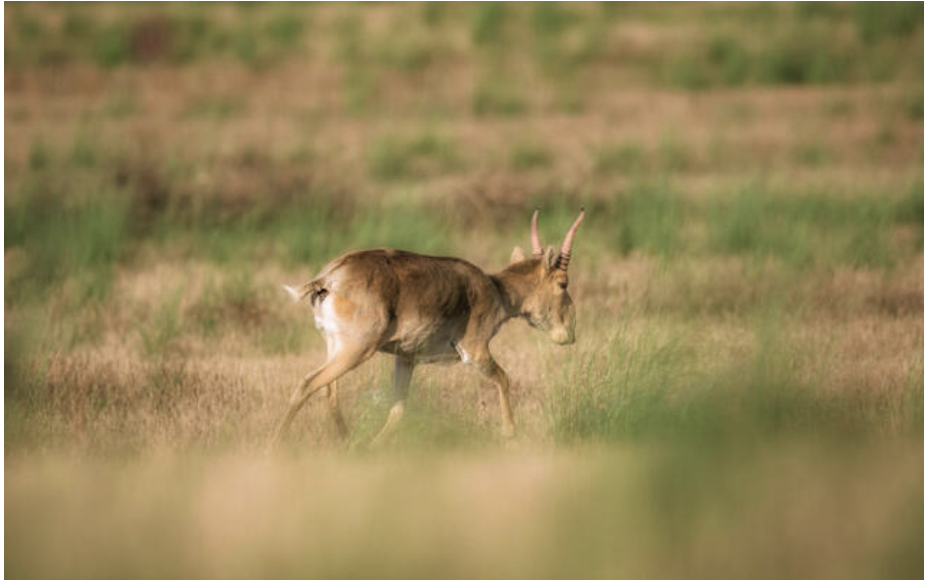saiga: (256, 168, 592, 449)
